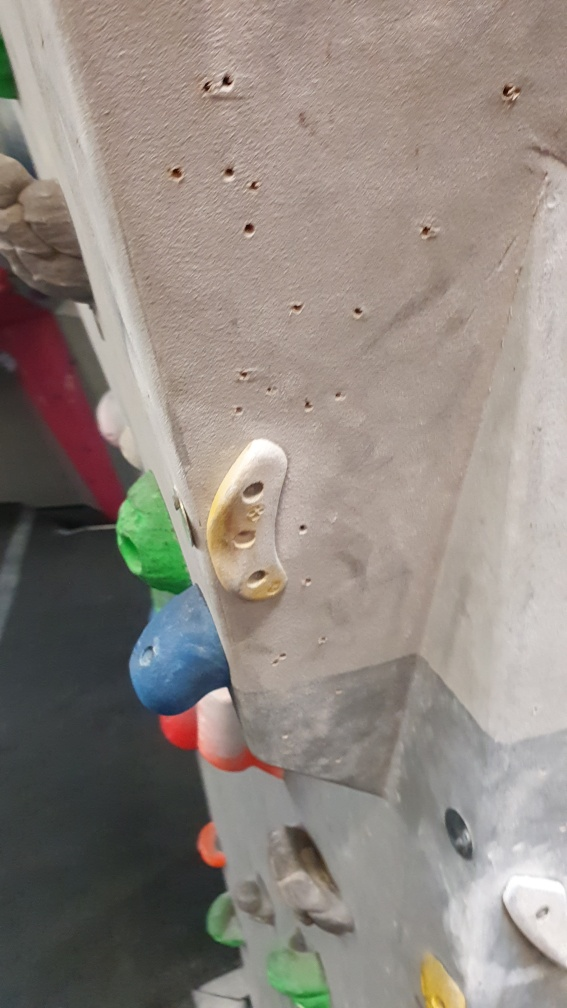Hand Start: (438, 802, 480, 863)
Jug: (263, 822, 358, 935)
